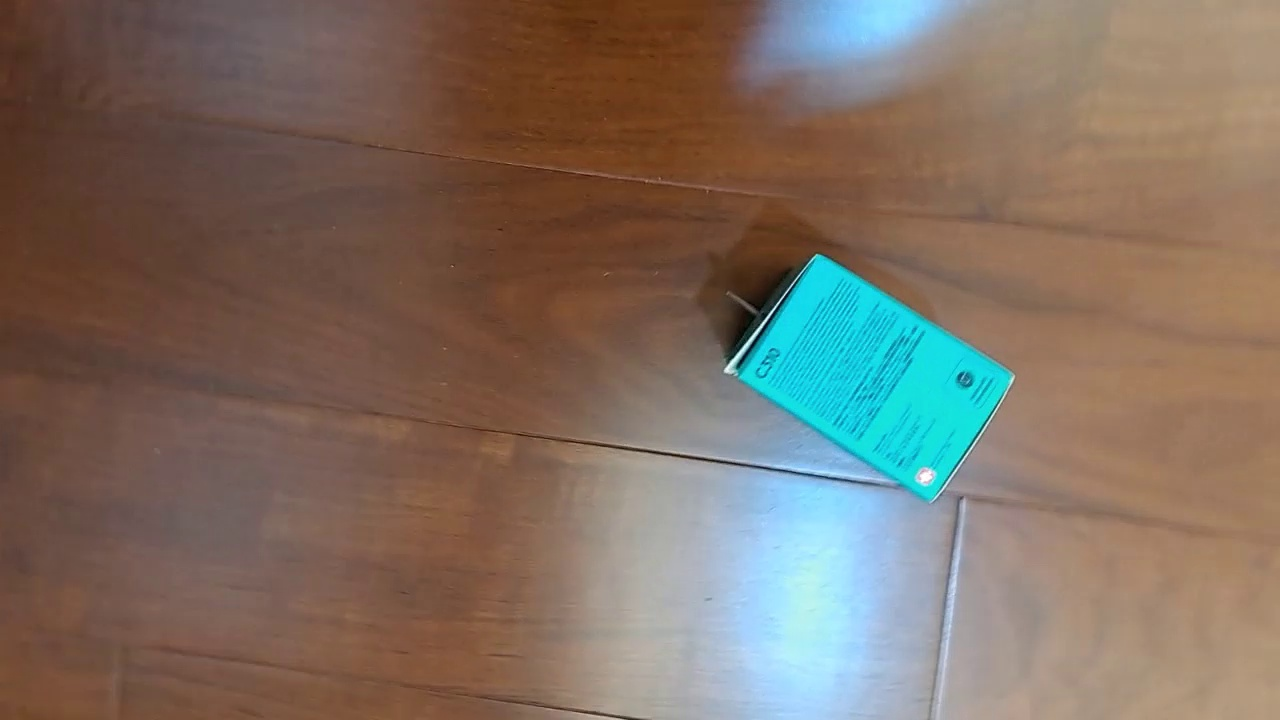webcam: (723, 253, 1017, 505)
